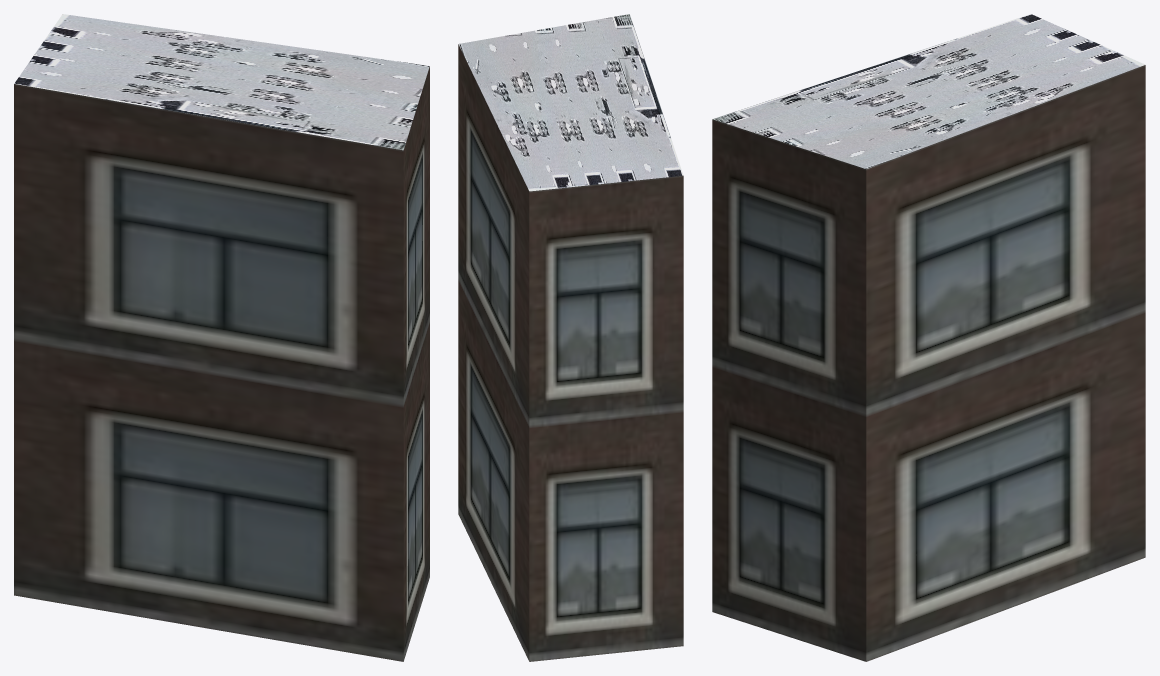
Rendered from ResTex__1332.fbx.
The picture shows the model from 3 angles, left to right: view 1: azimuth 30°, elevation 25°; view 2: azimuth 150°, elevation 25°; view 3: azimuth 270°, elevation 25°; orthographic projection. The views are drawn at different scales.
Visible parts, largest first — view 1: CityEngineMaterial_16_m, CityEngineMaterial_15_m; view 2: CityEngineMaterial_16_m, CityEngineMaterial_15_m; view 3: CityEngineMaterial_16_m, CityEngineMaterial_15_m.
Boxes of the visible parts, x1,y1,x2,y2 form: CityEngineMaterial_16_m: [14, 66, 429, 661]; CityEngineMaterial_15_m: [14, 14, 429, 150]; CityEngineMaterial_16_m: [458, 44, 683, 661]; CityEngineMaterial_15_m: [458, 14, 683, 191]; CityEngineMaterial_16_m: [712, 65, 1145, 661]; CityEngineMaterial_15_m: [713, 14, 1145, 168].
Bounding box in the file's own units: 4.05 × 6 × 4.78.
Materials: 2 (2 with a texture image).
